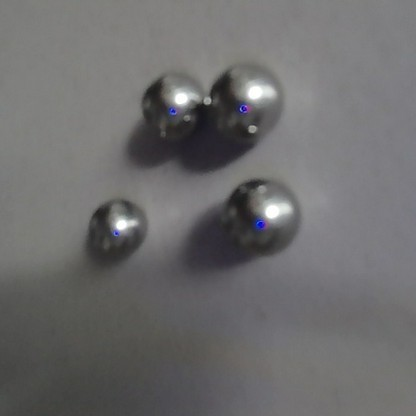ironball: (206, 53, 292, 146), (220, 172, 301, 256), (136, 66, 204, 150), (88, 194, 148, 258)
